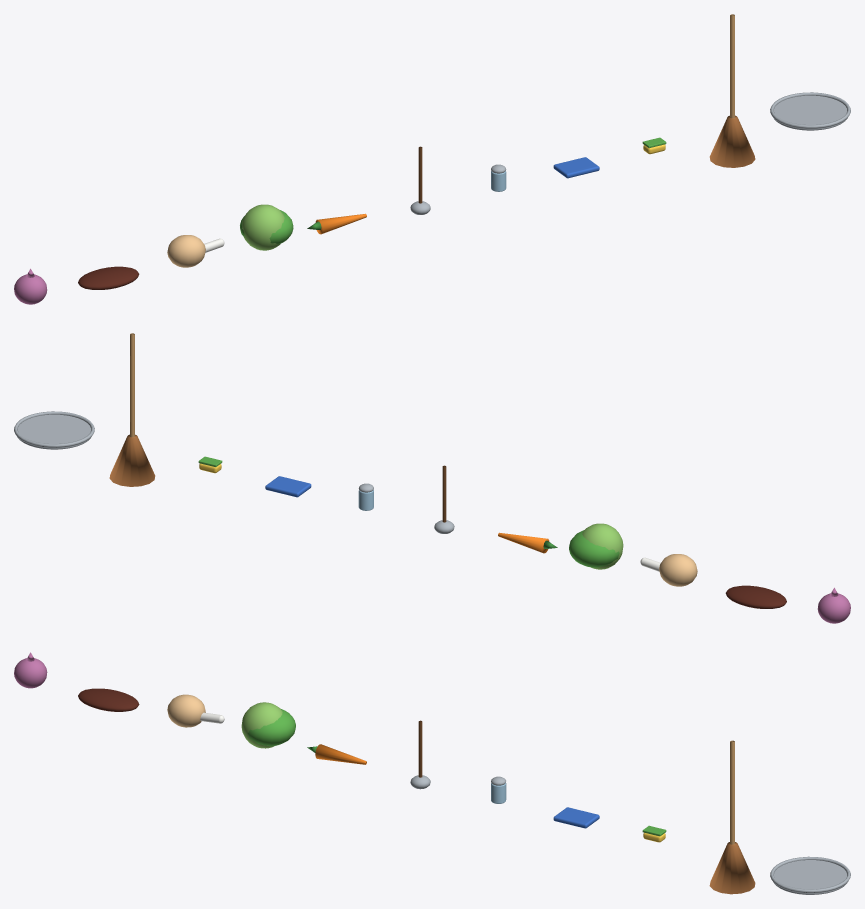
The model's file is props.glb.
3 views of the same model, one above another, from view 1: azimuth 30°, elevation 25°; view 2: azimuth 150°, elevation 25°; view 3: azimuth 330°, elevation 25° (orthographic).
Visible parts, largest first — view 1: Tray, HandBroom, Cabbage, ChickenPiece, LiverSlab, Onion, Rag, Carrot; view 2: Tray, HandBroom, Cabbage, ChickenPiece, LiverSlab, Onion, Rag, Carrot; view 3: Tray, HandBroom, Cabbage, ChickenPiece, LiverSlab, Onion, Rag, Carrot, Ladle.
Part boxes in pixels (bbox=[...]): Tray: bbox=[770, 92, 850, 130]; HandBroom: bbox=[709, 14, 755, 167]; Cabbage: bbox=[240, 204, 293, 250]; ChickenPiece: bbox=[167, 235, 224, 267]; LiverSlab: bbox=[78, 266, 139, 289]; Onion: bbox=[14, 268, 47, 304]; Rag: bbox=[553, 157, 599, 178]; Carrot: bbox=[307, 213, 366, 234]; Tray: bbox=[14, 411, 94, 449]; HandBroom: bbox=[109, 333, 155, 486]; Cabbage: bbox=[569, 523, 623, 569]; ChickenPiece: bbox=[640, 554, 697, 586]; LiverSlab: bbox=[725, 585, 786, 608]; Onion: bbox=[817, 587, 850, 623]; Rag: bbox=[265, 476, 311, 497]; Carrot: bbox=[498, 532, 557, 553]; Tray: bbox=[770, 856, 850, 894]; HandBroom: bbox=[709, 740, 755, 894]; Cabbage: bbox=[241, 702, 295, 748]; ChickenPiece: bbox=[167, 694, 224, 727]; LiverSlab: bbox=[78, 688, 139, 711]; Onion: bbox=[14, 652, 47, 688]; Rag: bbox=[553, 807, 599, 828]; Carrot: bbox=[307, 744, 366, 764]; Ladle: bbox=[410, 720, 430, 789].
Size of the model in its own units: 7.45 by 1.23 by 0.63.
